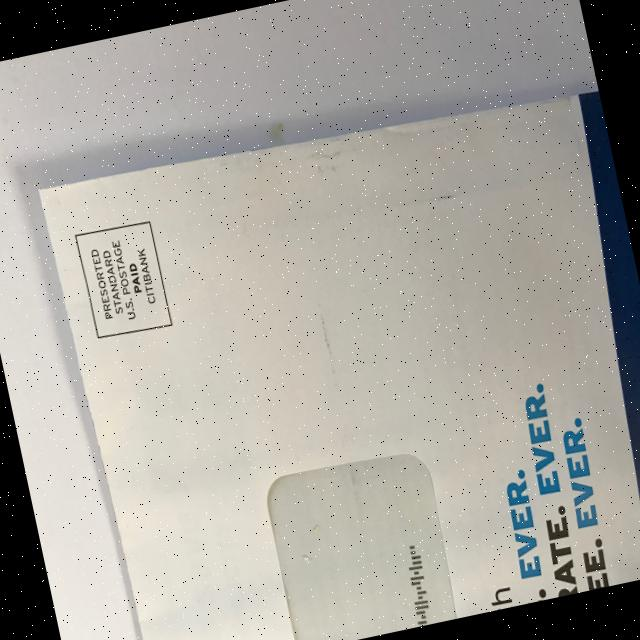paper: (36, 71, 640, 640), (259, 443, 461, 640)
